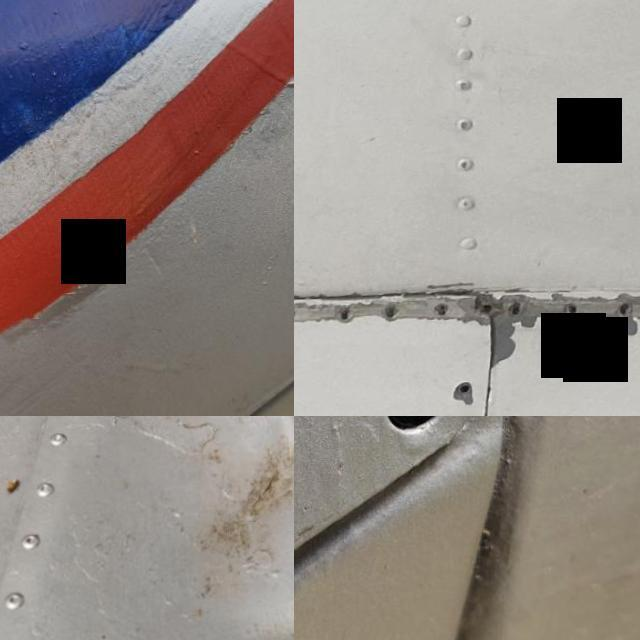Crack: (294, 282, 493, 314)
Dent: (222, 568, 294, 640)
Missing_Fastener: (311, 416, 499, 504), (430, 306, 447, 321), (332, 311, 349, 324), (473, 307, 492, 318), (453, 386, 470, 398), (380, 308, 395, 321), (508, 306, 522, 319), (563, 308, 575, 320)
